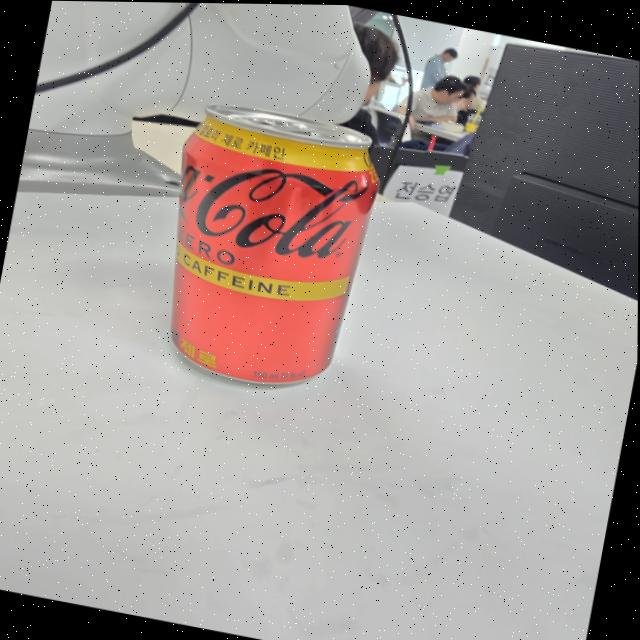can_coke_decaf: (170, 105, 378, 383)
